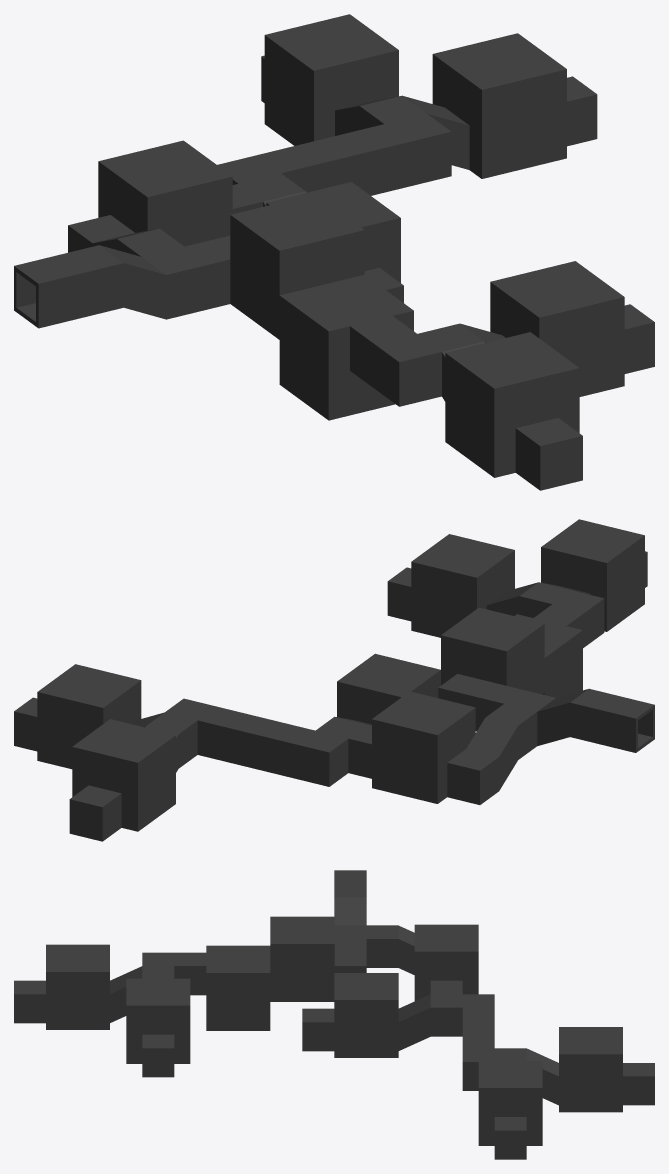
File: gridmap.glb
3 renders of one model, top to bottom at view 1: azimuth 30°, elevation 25°; view 2: azimuth 150°, elevation 25°; view 3: azimuth 270°, elevation 25°, orthographic. The views are drawn at different scales.
Parts seen in each view (by area): view 1: export; view 2: export; view 3: export.
Part boxes in pixels (bbox=[...]): export: bbox=[14, 14, 654, 490]; export: bbox=[14, 519, 654, 841]; export: bbox=[14, 870, 654, 1159].
Size of what is drawn, in the model's own units: 160 by 30 by 200.
Materials: 1 (1 with a texture image).
